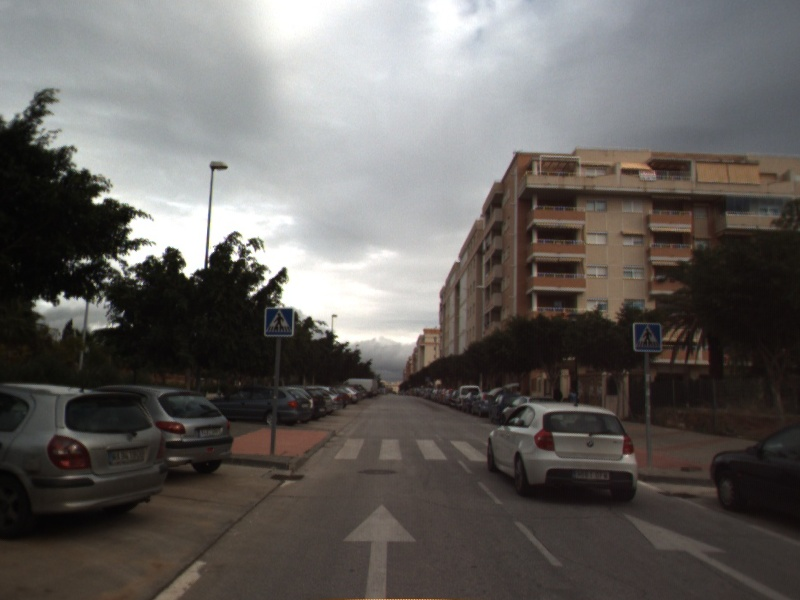STRAIGHT: (622, 512, 796, 600), (340, 502, 419, 600)
